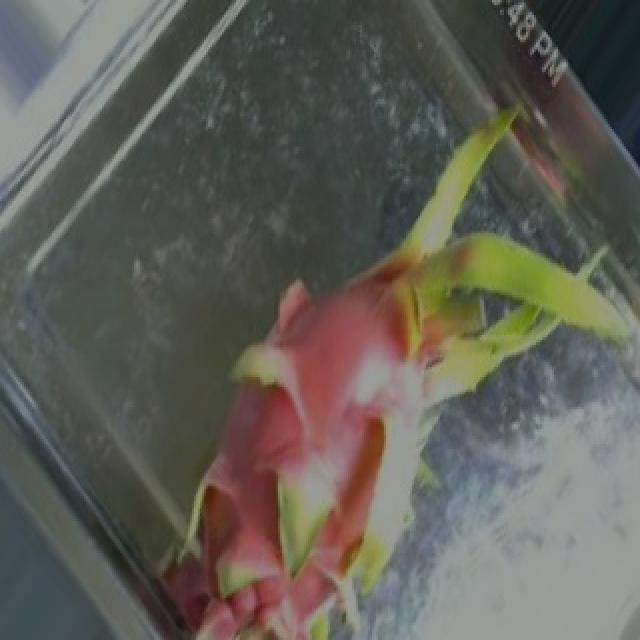fruit: (222, 13, 640, 434), (66, 238, 440, 640)
